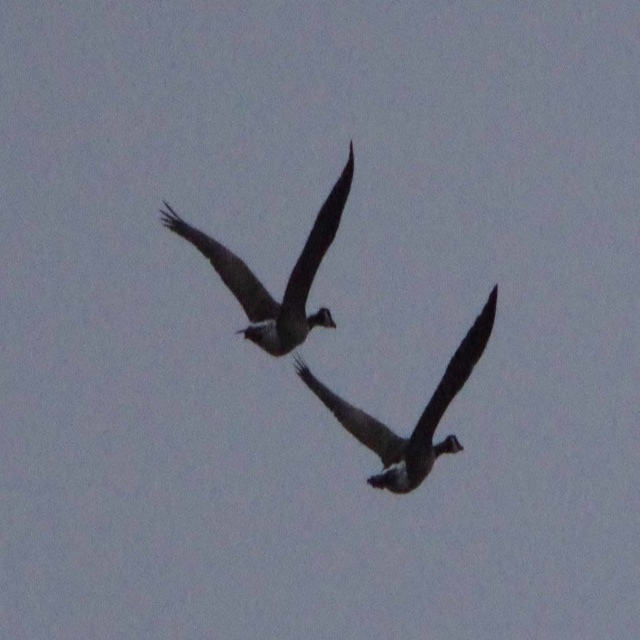Goose: (156, 142, 355, 355), (296, 286, 496, 495)
